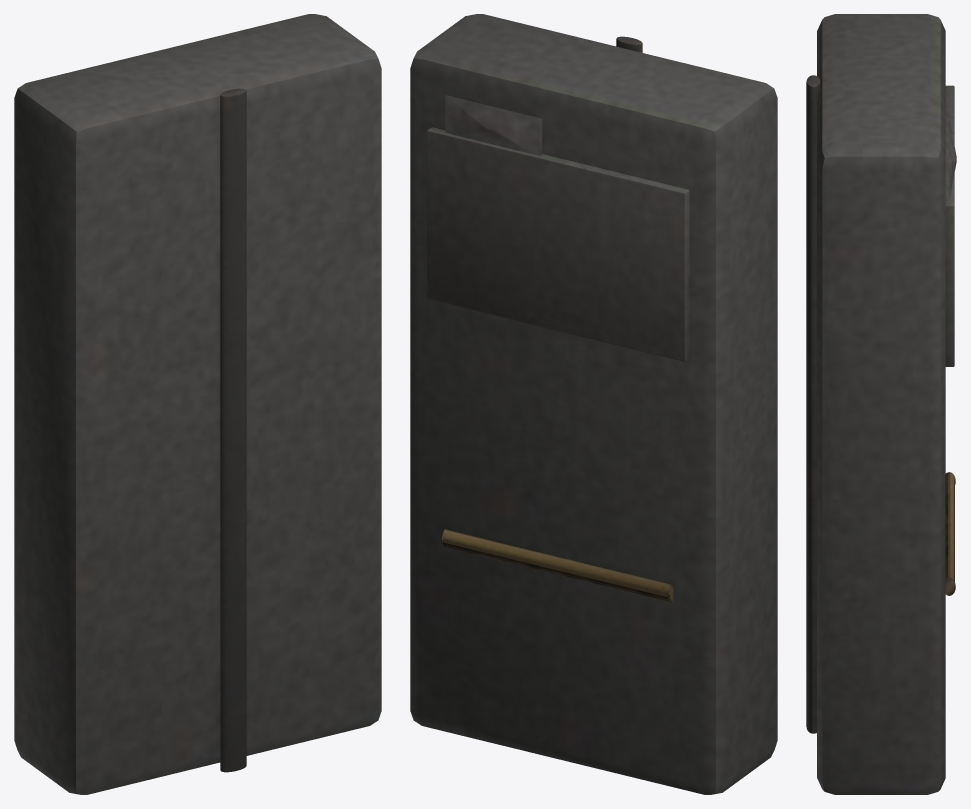
File: slit_wall_pillar.glb
The picture shows the model from 3 angles, left to right: view 1: azimuth 30°, elevation 25°; view 2: azimuth 150°, elevation 25°; view 3: azimuth 270°, elevation 25°; orthographic projection. The views are drawn at different scales.
Visible parts, largest first — view 1: slit_wall_pillar; view 2: slit_wall_pillar; view 3: slit_wall_pillar.
Part boxes in pixels (x1,y1,x2,y2): slit_wall_pillar: (14,14,381,794); slit_wall_pillar: (410,14,777,794); slit_wall_pillar: (806,14,956,794).
Bounding box in the file's own units: 0.975 × 2 × 0.4198.
1 material, 1 textured.
